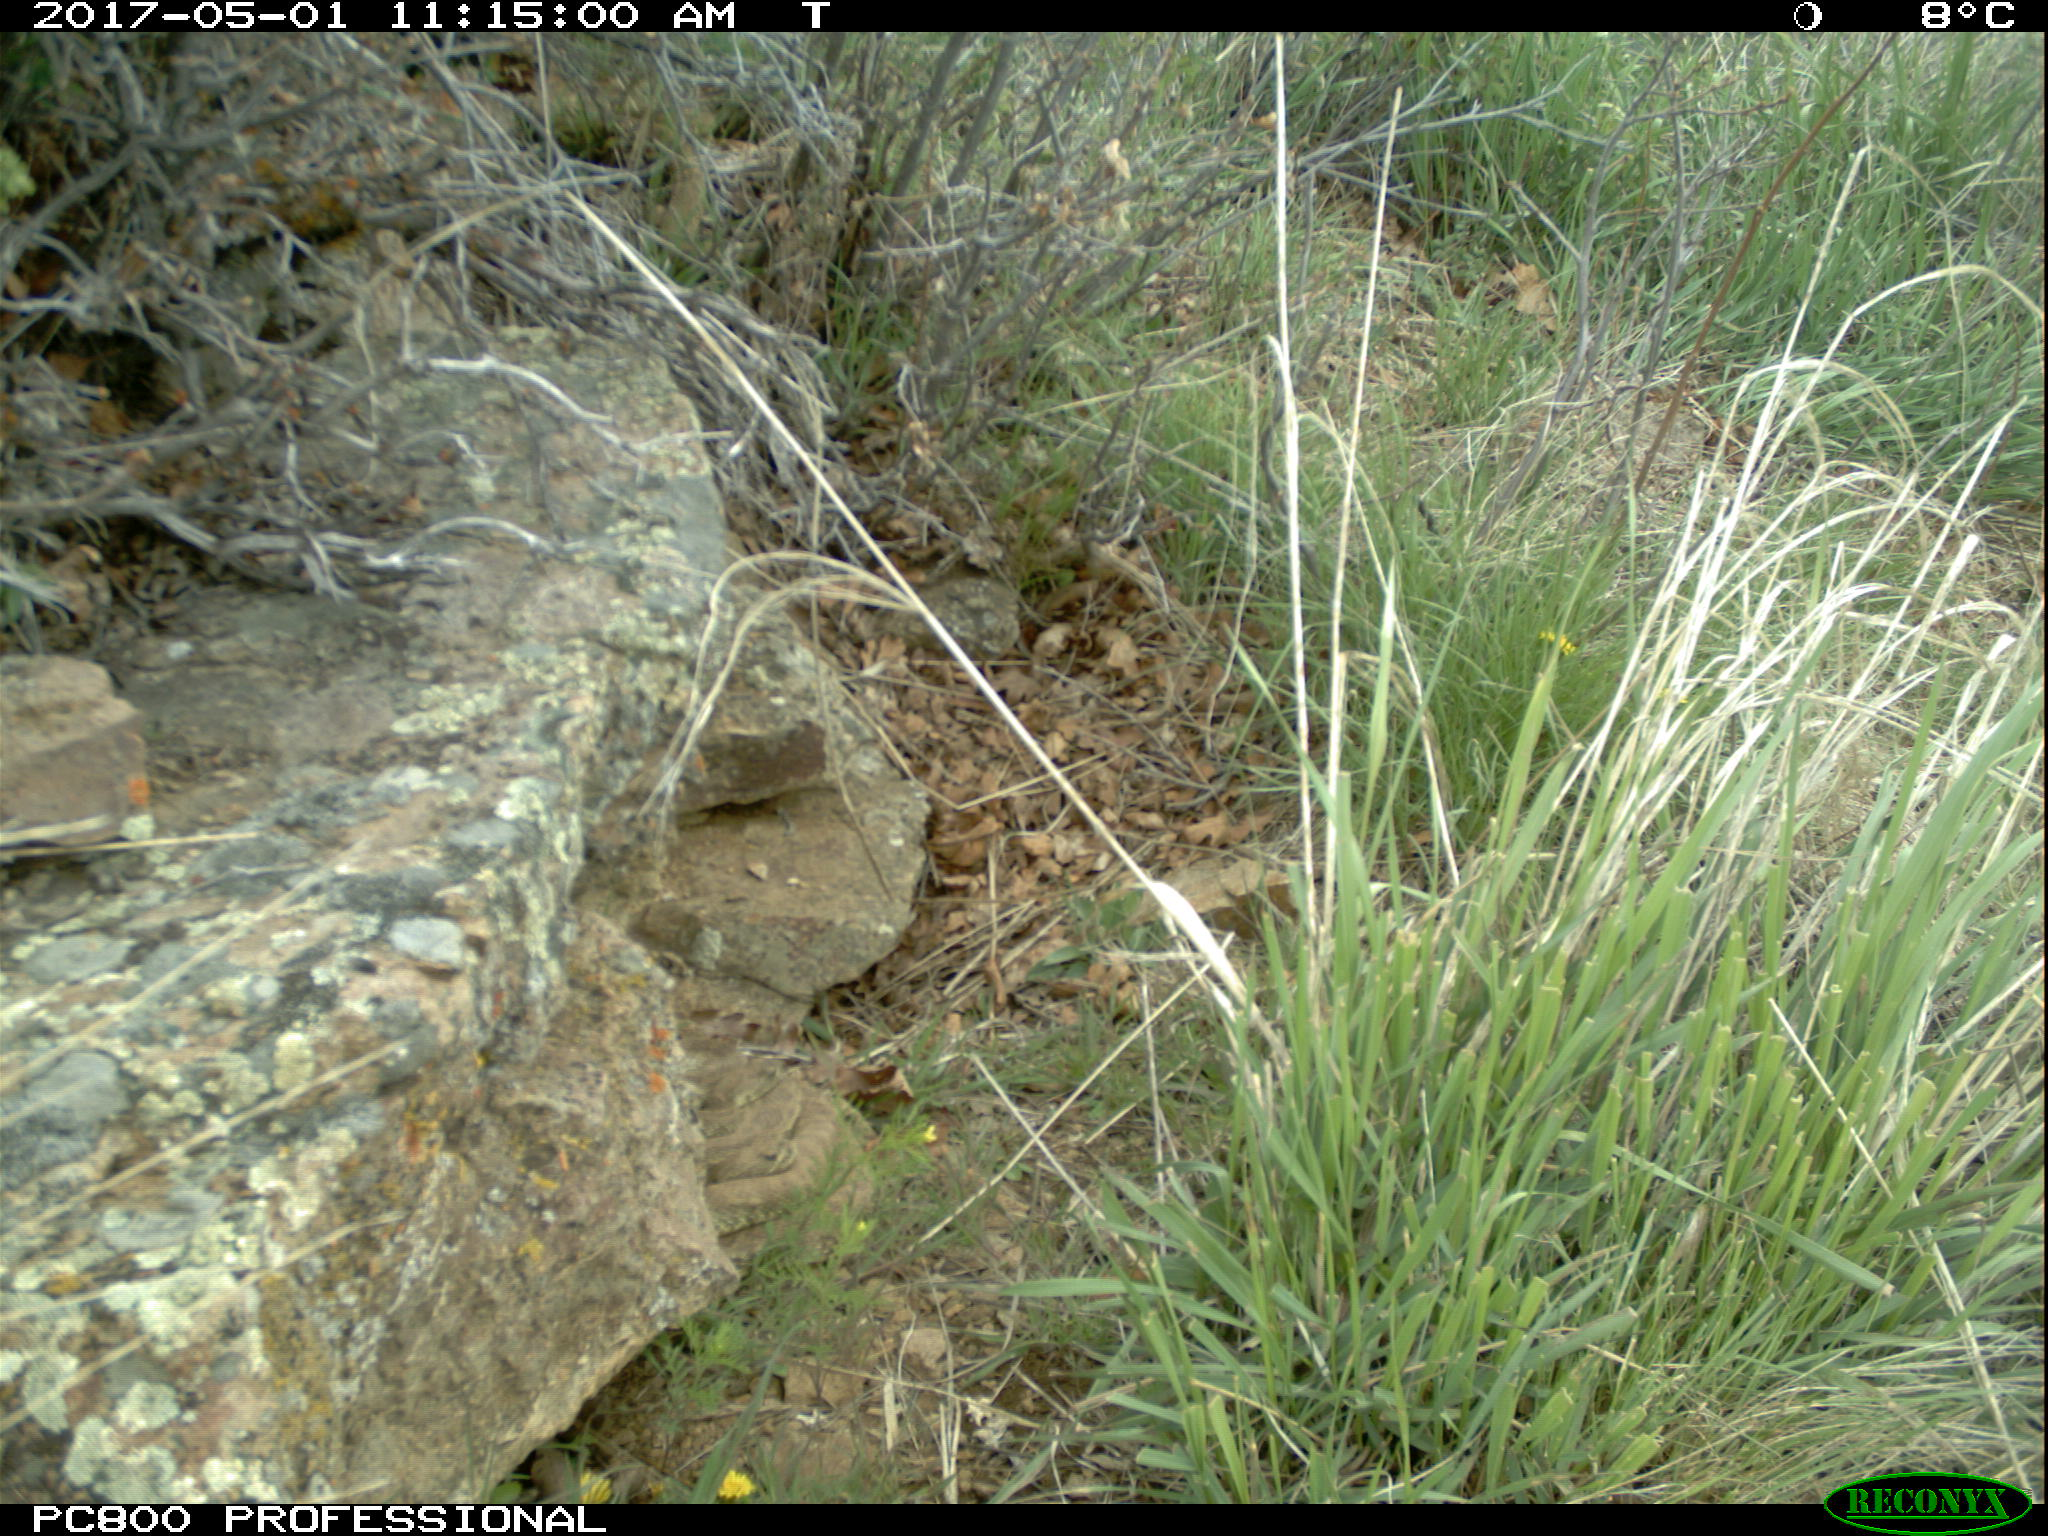snake: (685, 1065, 880, 1262)
